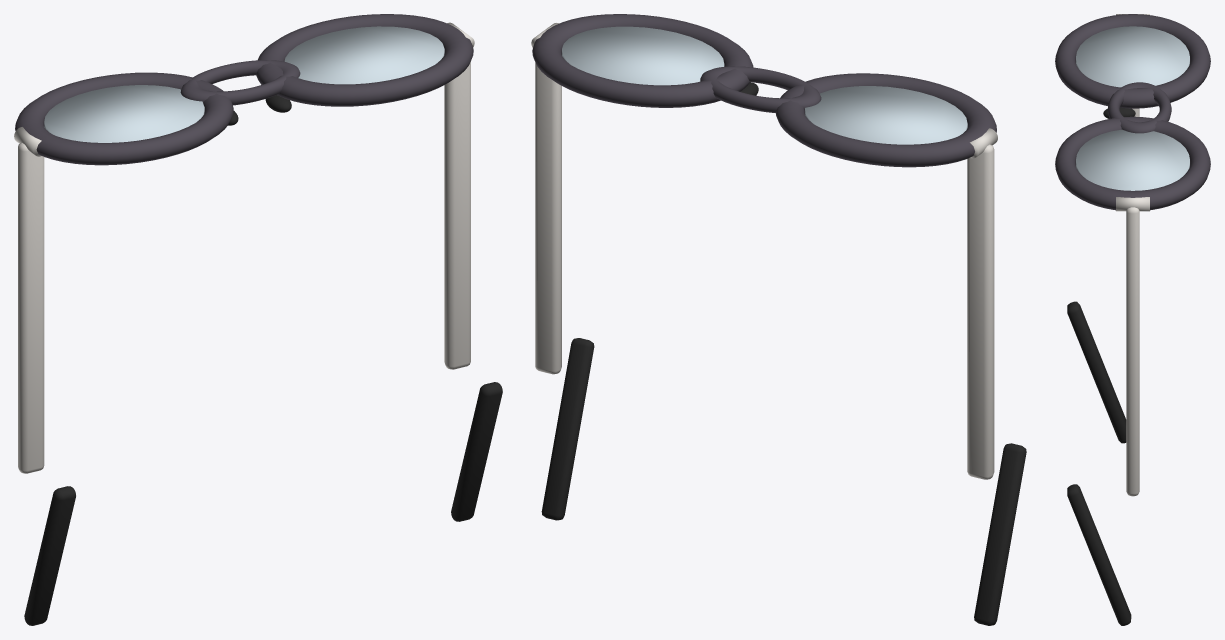
Rendered from eyewear_study.glb.
3 renders of one model, left to right at view 1: azimuth 30°, elevation 25°; view 2: azimuth 150°, elevation 25°; view 3: azimuth 270°, elevation 25°, orthographic. The views are drawn at different scales.
Visible parts, largest first — view 1: TEMPLE_ARM_L, RIM_R, RIM_L, TEMPLE_ARM_R, LENS_L, LENS_R, TEMPLE_TIP_R, TEMPLE_TIP_L, BRIDGE; view 2: TEMPLE_ARM_L, RIM_R, RIM_L, TEMPLE_ARM_R, LENS_L, LENS_R, TEMPLE_TIP_L, TEMPLE_TIP_R, BRIDGE; view 3: RIM_L, LENS_R, LENS_L, RIM_R, TEMPLE_ARM_R, TEMPLE_TIP_R, TEMPLE_TIP_L, BRIDGE, HINGE_R.
Boxes of the visible parts, x1,y1,x2,y2 form: TEMPLE_ARM_L: (18,143,44,473); RIM_R: (256,14,473,106); RIM_L: (15,72,233,165); TEMPLE_ARM_R: (444,61,470,369); LENS_L: (44,85,204,142); LENS_R: (284,26,444,84); TEMPLE_TIP_R: (451,382,502,521); TEMPLE_TIP_L: (24,486,75,625); BRIDGE: (180,60,300,105); TEMPLE_ARM_L: (967,144,994,479); RIM_R: (532,14,753,107); RIM_L: (775,73,996,167); TEMPLE_ARM_R: (535,63,561,374); LENS_L: (805,86,967,144); LENS_R: (562,26,724,85); TEMPLE_TIP_L: (974,443,1026,625); TEMPLE_TIP_R: (541,338,594,520); BRIDGE: (700,66,821,112); RIM_L: (1055,14,1210,108); LENS_R: (1076,129,1189,190); LENS_L: (1076,26,1189,87); RIM_R: (1055,116,1210,210); TEMPLE_ARM_R: (1126,207,1139,496); TEMPLE_TIP_R: (1067,484,1131,625); TEMPLE_TIP_L: (1067,301,1126,443); BRIDGE: (1107,82,1171,133); HINGE_R: (1116,197,1149,211).
Size of the model in its own units: 0.135 by 0.14 by 0.0462.
